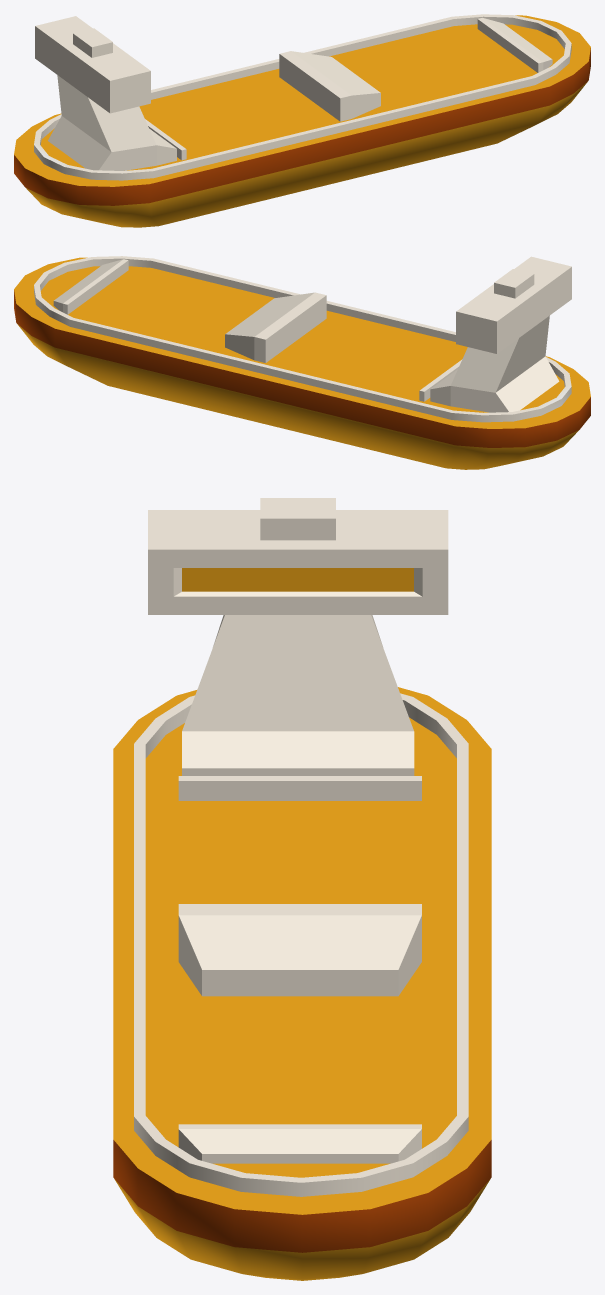
File: ShipBig.fbx
The picture shows the model from 3 angles, top to bottom: view 1: azimuth 30°, elevation 25°; view 2: azimuth 150°, elevation 25°; view 3: azimuth 270°, elevation 25°; orthographic projection. The views are drawn at different scales.
Parts seen in each view (by area): view 1: ShipBig; view 2: ShipBig; view 3: ShipBig.
Boxes of the visible parts, bbox=[...] form: ShipBig: bbox=[14, 14, 590, 227]; ShipBig: bbox=[14, 256, 590, 469]; ShipBig: bbox=[113, 498, 491, 1280].
Size of the model in its own units: 449 by 140 by 132.
